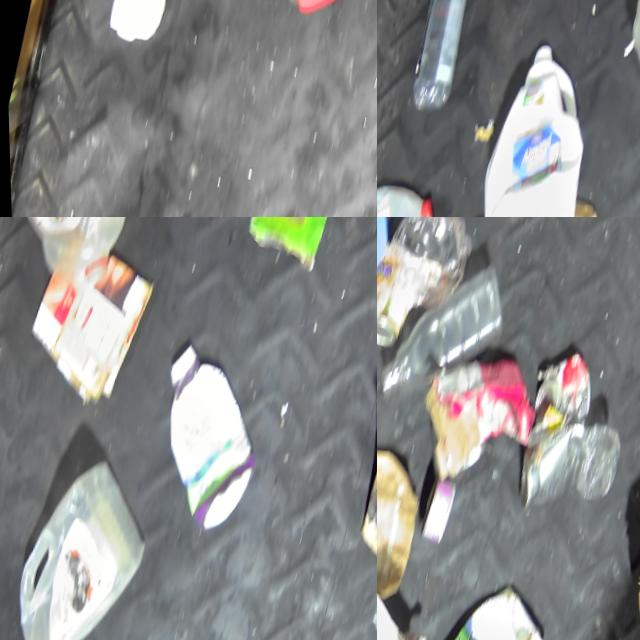can: (504, 408, 588, 523), (526, 347, 600, 438), (377, 237, 427, 356), (411, 472, 456, 548)
milk_jug: (0, 445, 164, 640), (460, 34, 615, 217)
plastic_bottle: (377, 240, 517, 428), (399, 0, 483, 120)
